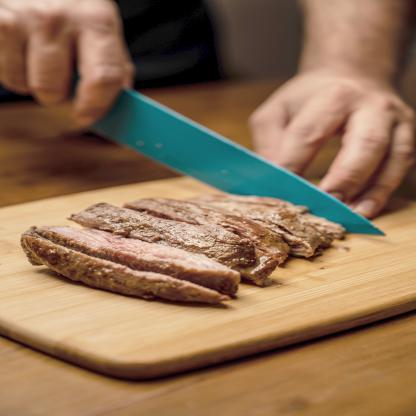Carne: (16, 226, 238, 305), (126, 197, 299, 264), (79, 200, 253, 258), (175, 195, 337, 244)
